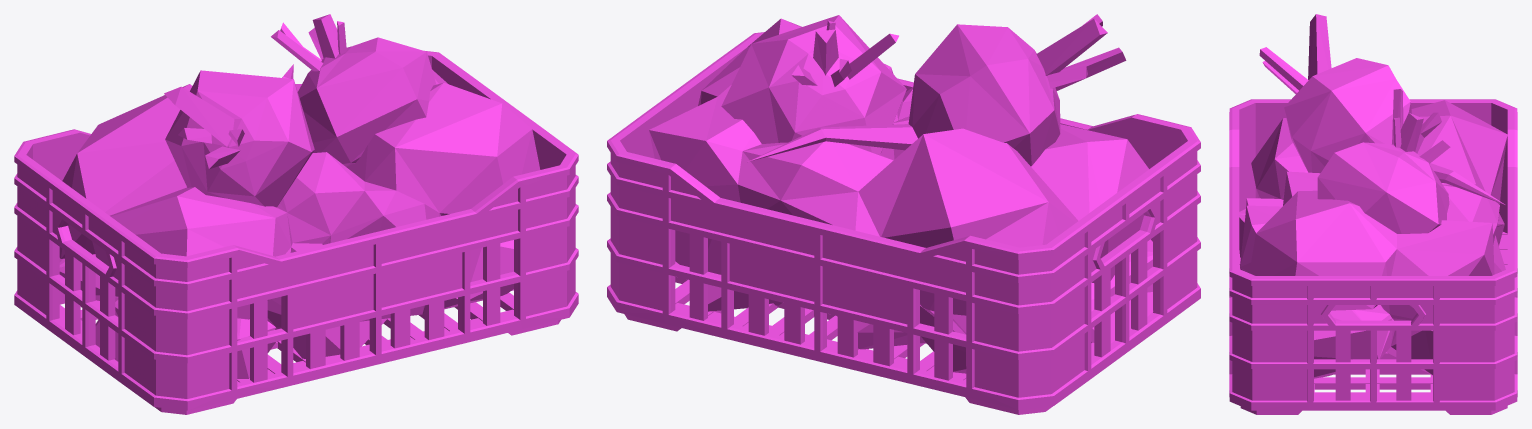
The model's file is SM_Crate_Plastic_Small_Beetroot.fbx.
3 renders of one model, left to right at view 1: azimuth 30°, elevation 25°; view 2: azimuth 150°, elevation 25°; view 3: azimuth 270°, elevation 25°, orthographic. The views are drawn at different scales.
Visible parts, largest first — view 1: SM_Crate_Plastic_Small_Beetroot; view 2: SM_Crate_Plastic_Small_Beetroot; view 3: SM_Crate_Plastic_Small_Beetroot.
Boxes of the visible parts, x1=… form: SM_Crate_Plastic_Small_Beetroot: x1=14, y1=14, x2=578, y2=414; SM_Crate_Plastic_Small_Beetroot: x1=607, y1=14, x2=1200, y2=414; SM_Crate_Plastic_Small_Beetroot: x1=1229, y1=14, x2=1517, y2=414.
Size of the model in its own units: 0.6083 by 0.393 by 0.4083.
